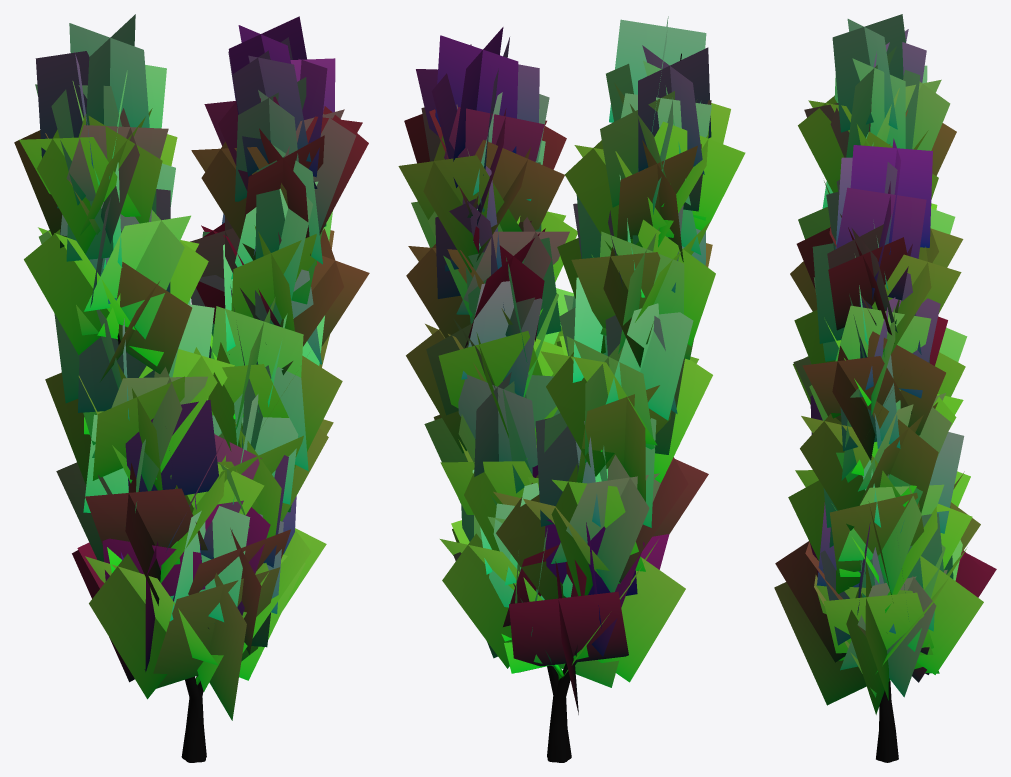
Rendered from Tree_6_9.fbx.
3 views of the same model, side by side, from view 1: azimuth 30°, elevation 25°; view 2: azimuth 150°, elevation 25°; view 3: azimuth 270°, elevation 25° (orthographic). The views are drawn at different scales.
Visible parts, largest first — view 1: _9; view 2: _9; view 3: _9.
Boxes of the visible parts, <box> form: _9: <box>14,14,369,762</box>; _9: <box>398,16,745,762</box>; _9: <box>774,14,996,762</box>.
Bounding box in the file's own units: 745 × 1610 × 469.
